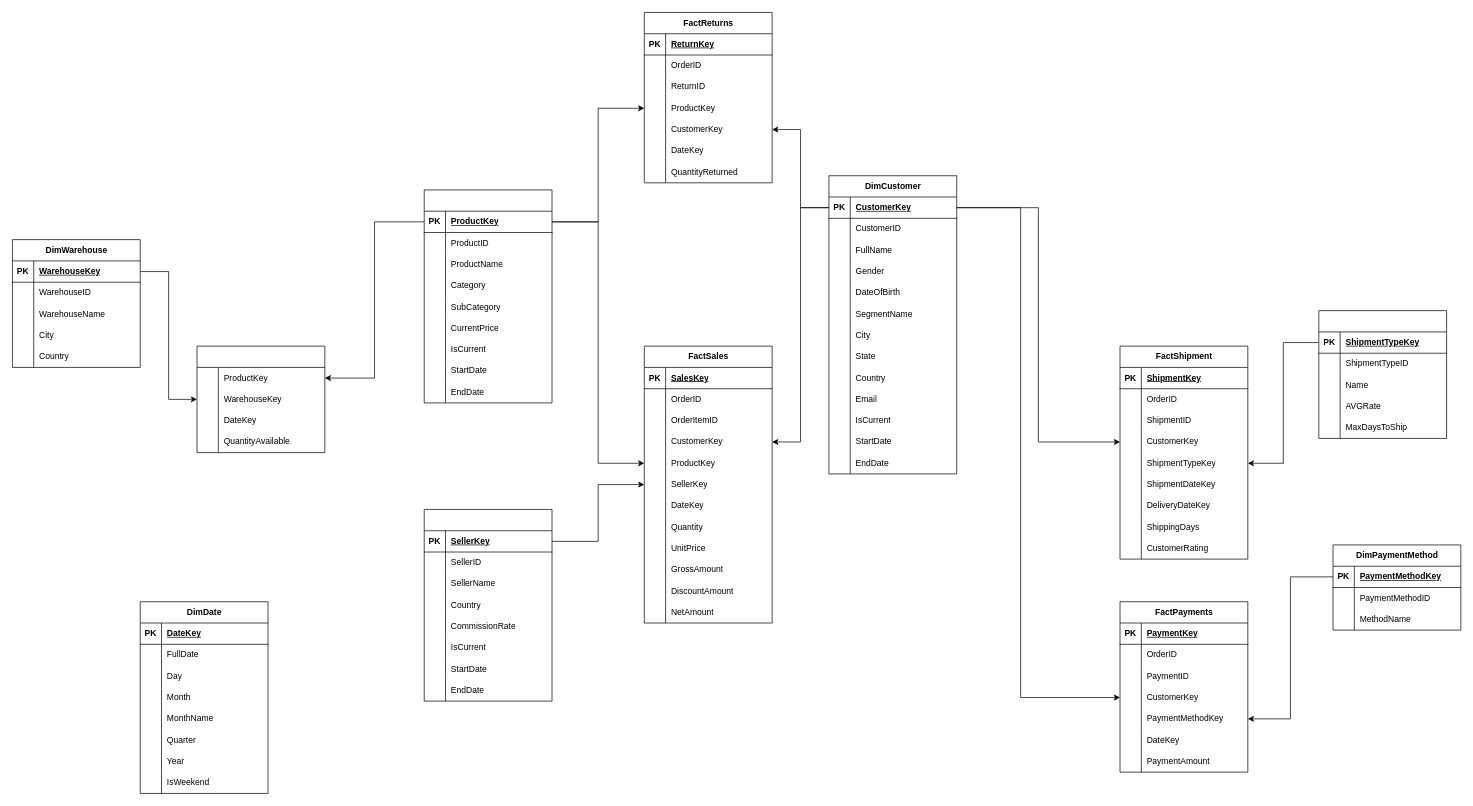
This 1473x806 diagram has some shape labels left out. The box of each missing label's shape, as (x1, y1, x2, y2) in pixels:
DimProduct: (424, 189, 552, 403)
DimSeller: (424, 509, 552, 701)
DimShipmentType: (1318, 310, 1447, 438)
FactInventorySnapshot: (196, 345, 325, 453)
